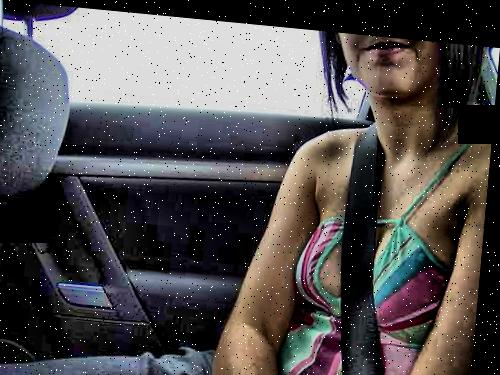seatbelt: (303, 100, 437, 375)
